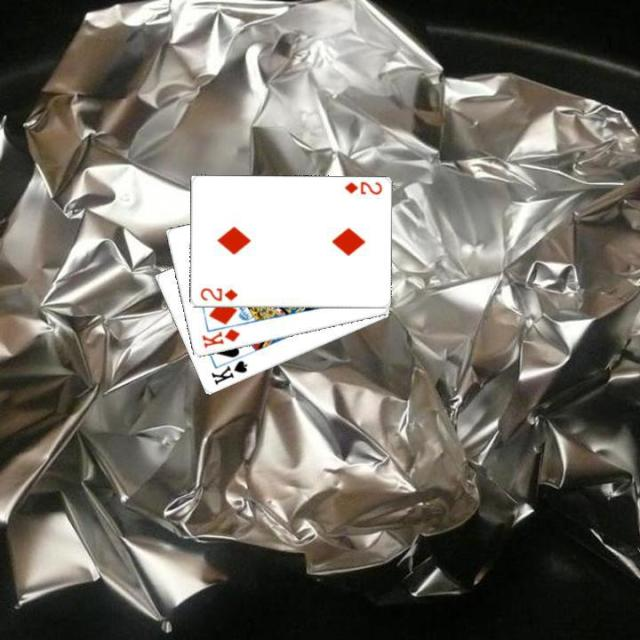2D: (197, 285, 239, 303), (341, 178, 383, 196)
KD: (197, 326, 242, 350)
KS: (207, 357, 250, 388)
